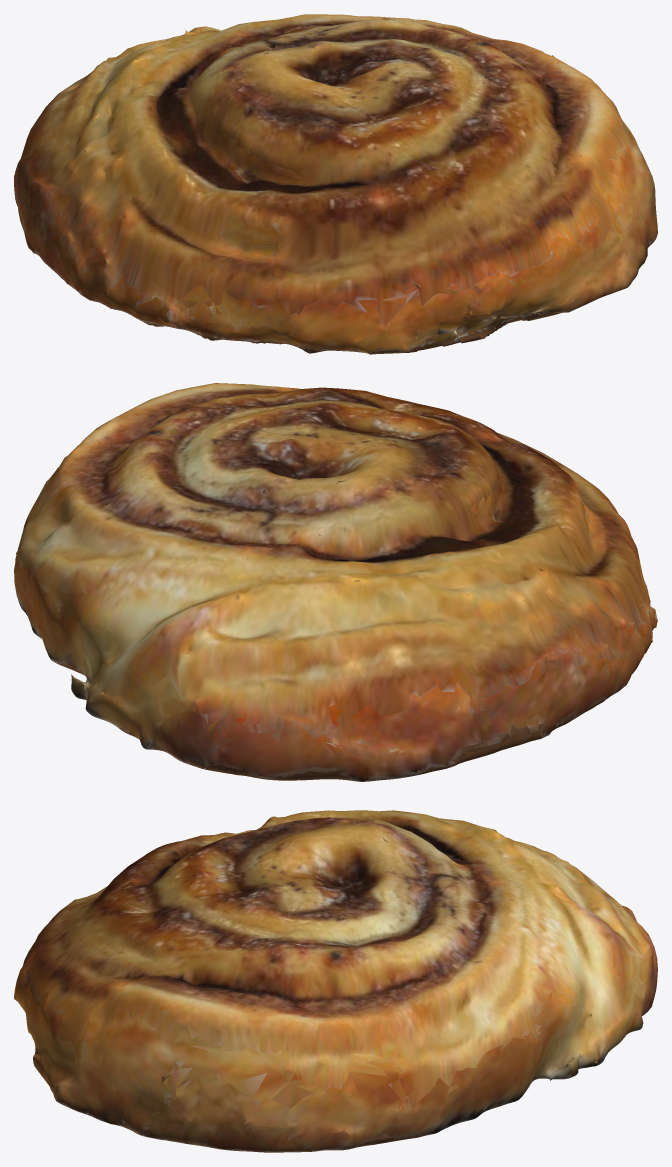
Rendered from cinnamon_13140.obj.
3 views of the same model, one above another, from view 1: azimuth 30°, elevation 25°; view 2: azimuth 150°, elevation 25°; view 3: azimuth 270°, elevation 25° (orthographic). The views are drawn at different scales.
Bounding box in the file's own units: 111 × 34 × 115.
1 material, 1 textured.
